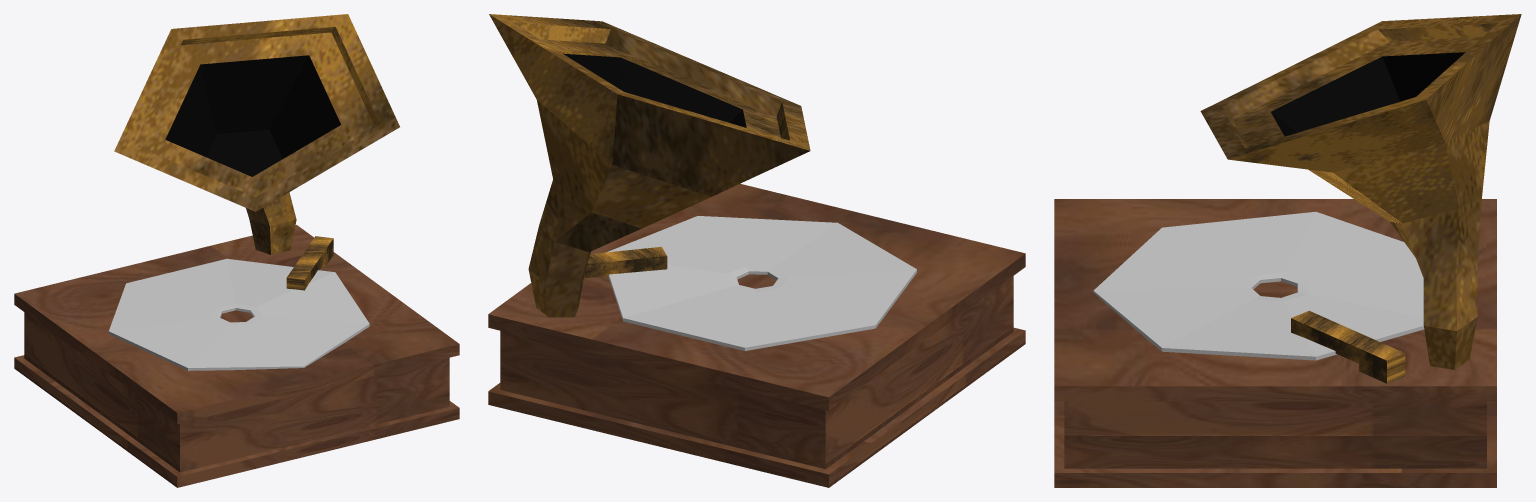
Rendered from vynl untitled.fbx.
3 renders of one model, left to right at view 1: azimuth 30°, elevation 25°; view 2: azimuth 150°, elevation 25°; view 3: azimuth 270°, elevation 25°, orthographic. The views are drawn at different scales.
Parts seen in each view (by area): view 1: Cube, Cylinder, Cylinder.001; view 2: Cube, Cylinder, Cylinder.001; view 3: Cube, Cylinder, Cylinder.001.
Part boxes in pixels (<box>): Cube: <box>14,225,459,487</box>; Cylinder: <box>114,14,399,254</box>; Cylinder.001: <box>108,258,369,370</box>; Cube: <box>488,183,1025,487</box>; Cylinder: <box>489,14,810,317</box>; Cylinder.001: <box>607,216,916,350</box>; Cube: <box>1054,199,1496,487</box>; Cylinder: <box>1200,14,1521,369</box>; Cylinder.001: <box>1093,211,1424,360</box>.
Size of the model in its own units: 583 by 540 by 565.
